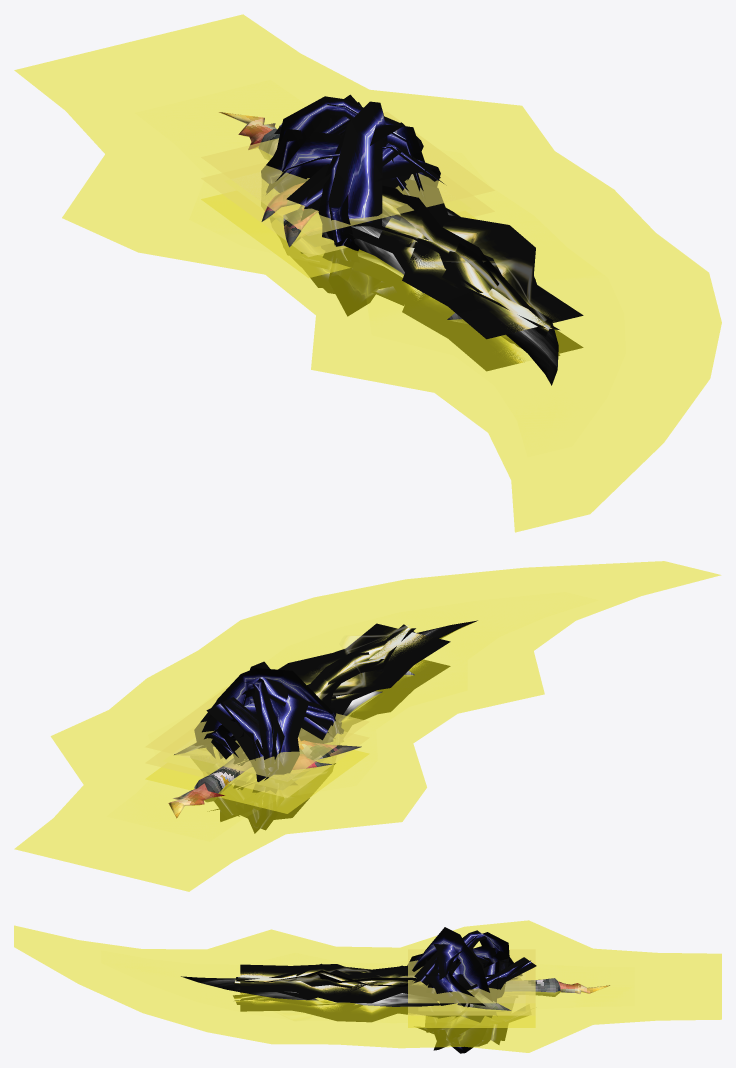
3 renders of one model, top to bottom at view 1: azimuth 30°, elevation 25°; view 2: azimuth 150°, elevation 25°; view 3: azimuth 270°, elevation 25°, orthographic. The views are drawn at different scales.
Visible parts, largest first — view 1: "object0246_Editable Poly", object0108_Plane02X02, "object0242_Editable Poly", "object0224_Editable Poly", "object0230_Editable Poly", object0088_Plane, "object0236_Editable Poly", "object0334_Editable Poly", object0016_Object01, "object0201_Editable Poly", "object0184_Editable Poly", "object0314_Editable Poly" (+7 smaller); view 2: "object0246_Editable Poly", object0108_Plane02X02, object0088_Plane, "object0242_Editable Poly", "object0224_Editable Poly", "object0230_Editable Poly", object0105_Plane02X01, object0005_W131, "object0334_Editable Poly", "object0320_Editable Poly", "object0201_Editable Poly", "object0314_Editable Poly" (+9 smaller); view 3: "object0246_Editable Poly", "object0230_Editable Poly", object0108_Plane02X02, "object0242_Editable Poly", object0088_Plane, "object0255_Editable Poly", "object0236_Editable Poly", object0016_Object01, object0005_W131, object0105_Plane02X01, "object0201_Editable Poly", "object0115_Editable Poly" (+9 smaller).
Boxes of the visible parts, x1,y1,x2,y2 form: "object0246_Editable Poly": (14, 14, 721, 532); object0108_Plane02X02: (201, 112, 494, 235); "object0242_Editable Poly": (318, 101, 424, 263); "object0224_Editable Poly": (349, 203, 583, 337); "object0230_Editable Poly": (352, 179, 578, 339); object0088_Plane: (201, 161, 494, 256); "object0236_Editable Poly": (360, 194, 559, 336); "object0334_Editable Poly": (261, 129, 443, 194); object0016_Object01: (320, 208, 558, 385); "object0201_Editable Poly": (353, 261, 577, 371); "object0184_Editable Poly": (321, 244, 583, 369); "object0314_Editable Poly": (277, 96, 425, 199); "object0246_Editable Poly": (14, 561, 720, 891); object0108_Plane02X02: (145, 687, 369, 781); object0088_Plane: (145, 725, 369, 797); "object0242_Editable Poly": (197, 661, 340, 809); "object0224_Editable Poly": (233, 623, 444, 764); "object0230_Editable Poly": (233, 625, 450, 765); object0105_Plane02X01: (146, 750, 368, 813); object0005_W131: (168, 737, 361, 818); "object0334_Editable Poly": (209, 689, 309, 821); "object0320_Editable Poly": (206, 697, 307, 819); "object0201_Editable Poly": (235, 661, 450, 789); "object0314_Editable Poly": (242, 678, 284, 802); "object0246_Editable Poly": (14, 920, 721, 1052); "object0230_Editable Poly": (240, 964, 517, 1003); object0108_Plane02X02: (408, 949, 535, 1003); "object0242_Editable Poly": (407, 927, 498, 1024); object0088_Plane: (408, 962, 535, 1015); "object0255_Editable Poly": (425, 957, 536, 1045); "object0236_Editable Poly": (233, 966, 419, 999); object0016_Object01: (181, 967, 440, 1006); object0005_W131: (457, 978, 609, 1010); object0105_Plane02X01: (408, 1015, 535, 1027); "object0201_Editable Poly": (240, 992, 442, 1022); "object0115_Editable Poly": (433, 958, 509, 1053).
Bounding box in the file's own units: 1.14 × 0.4761 × 2.57.
